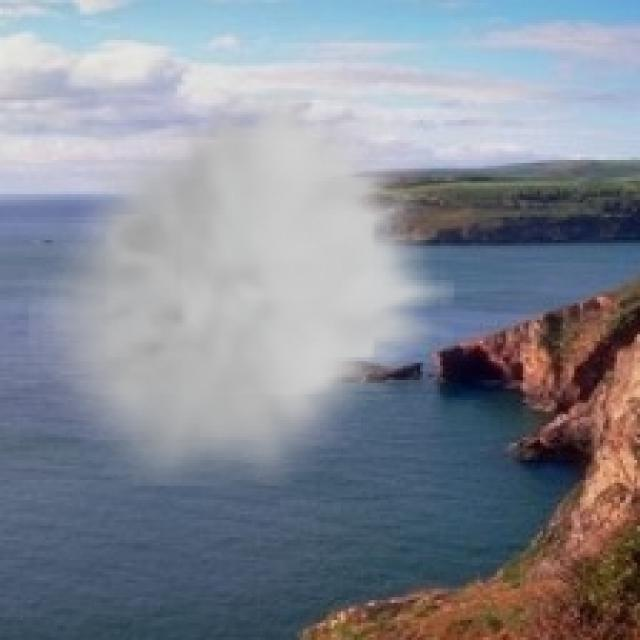smoke: (29, 88, 454, 486)
